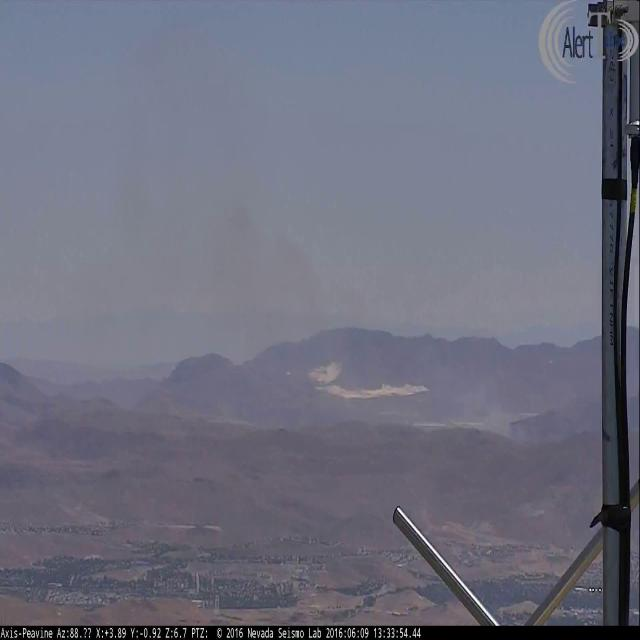smoke: (114, 167, 371, 350), (390, 354, 521, 440)
